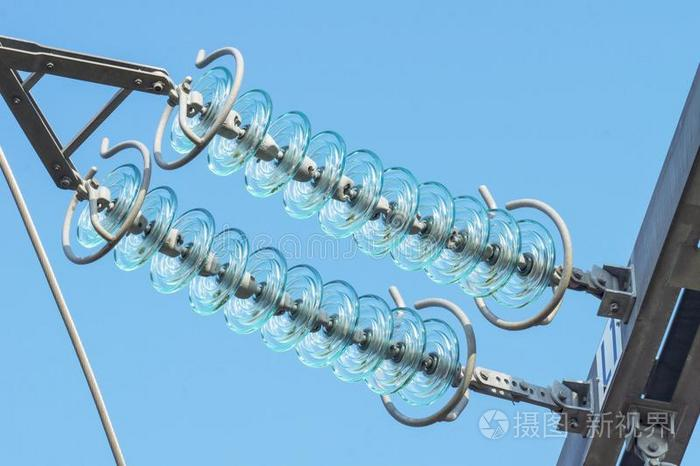insulator: (83, 161, 457, 406), (174, 67, 556, 302)
